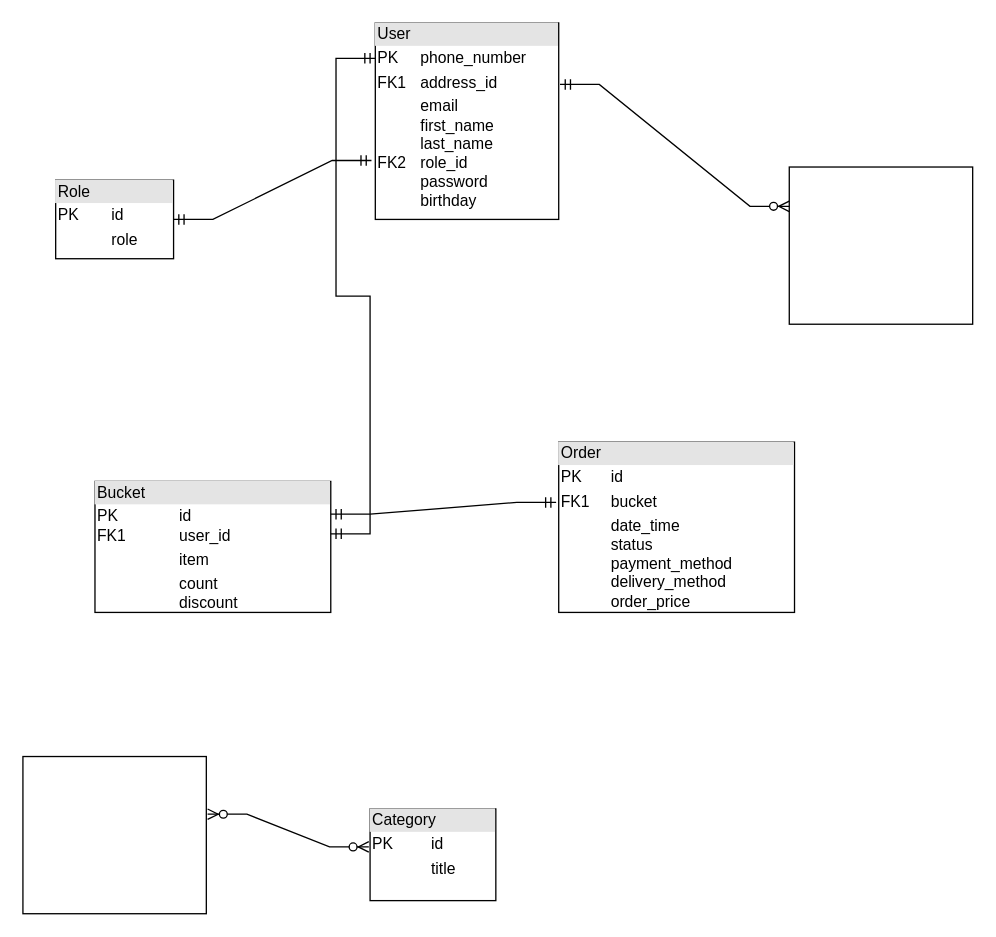
Some shapes in this 996 by 937 pixel diagram are drawn without their labels. The shapes that lost their labels are listed below. From the top down, each one's box as (x1, y1, x2, y2) in pixels, then its label:
(788, 166, 973, 324): Address PK id country city street block house
(22, 755, 206, 914): Product PK id FK1 category_id title description price sale
